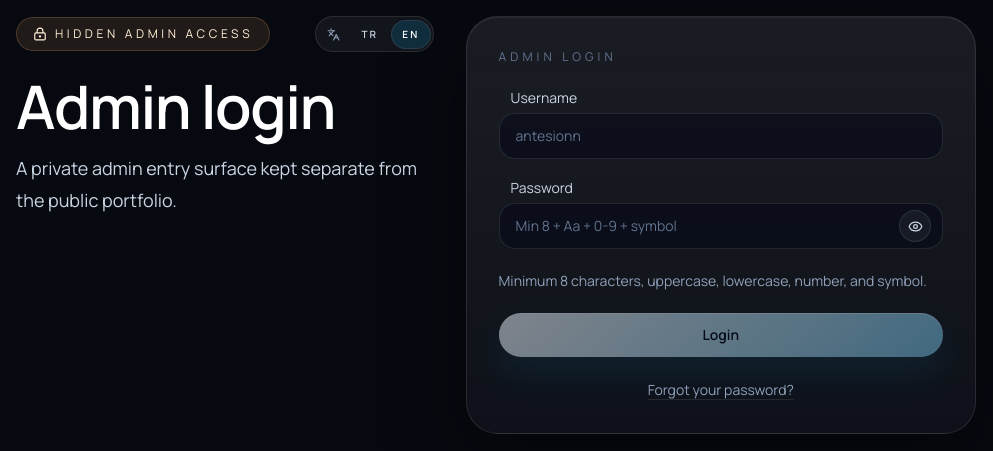
Scenario: App › switches the auth interface language to Turkish
The image size is (993, 451).
(page scrolled)
Click the button "TR": {"x": 370, "y": 34} x1=351 y1=20 x2=388 y2=48
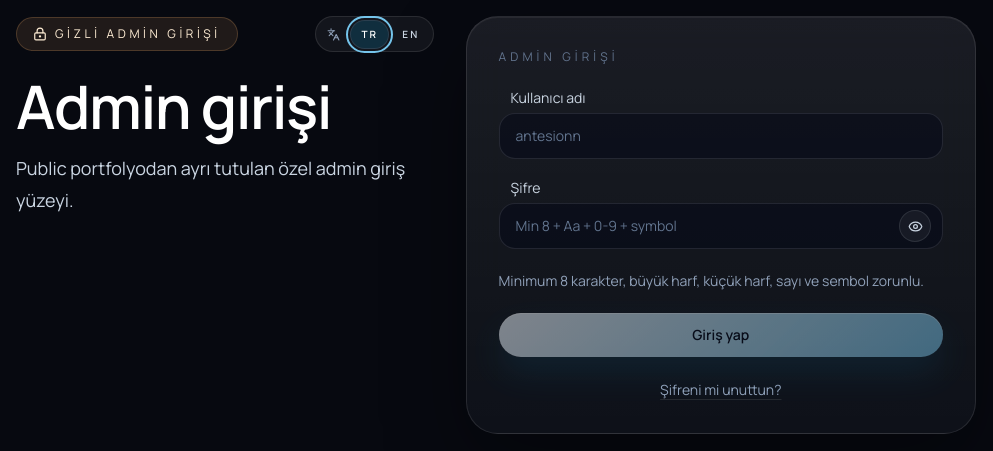
expect the text "Gizli admin girişi" is shown: met, box x1=16 y1=17 x2=238 y2=51
expect the button "Giriş yap" is shown: met, box x1=499 y1=313 x2=943 y2=357
